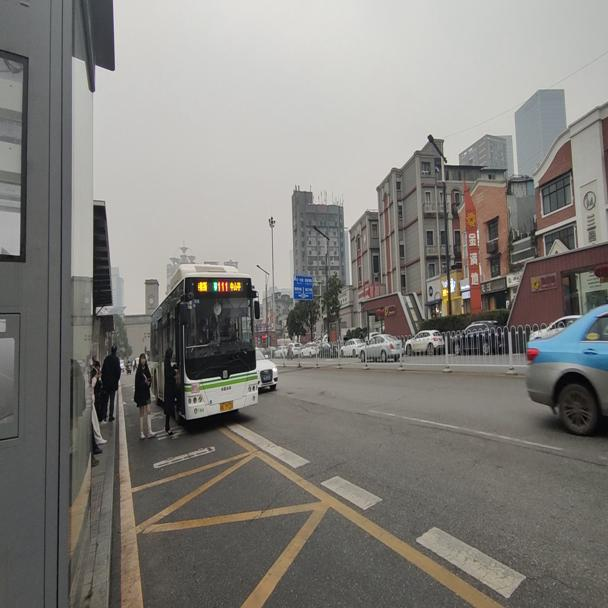bus: (149, 261, 261, 423)
screen: (218, 276, 228, 292)
